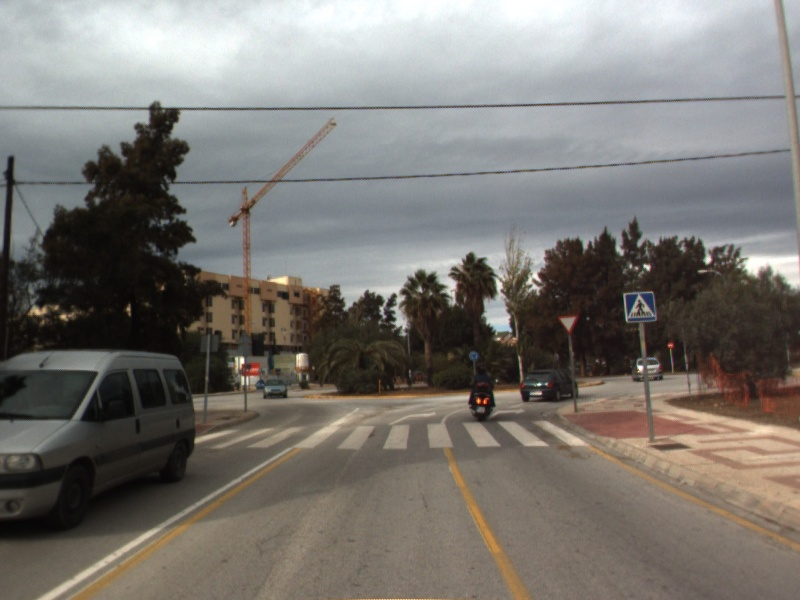RIGHT: (387, 410, 438, 427), (488, 406, 528, 420)
